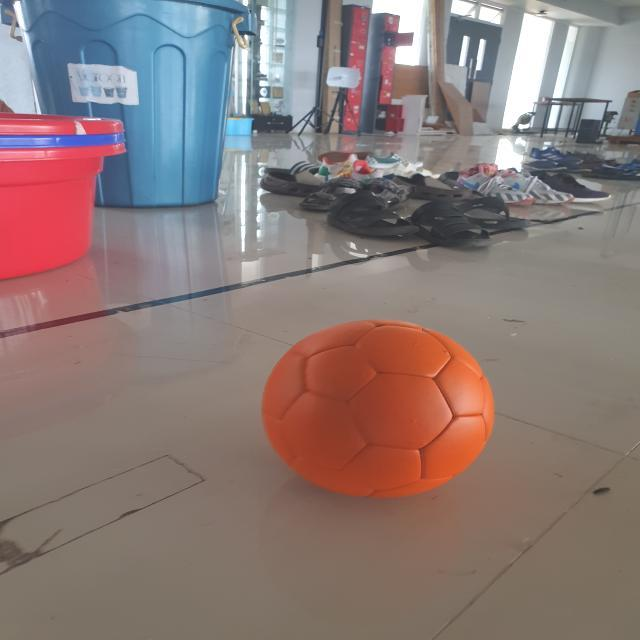bola: (223, 311, 522, 501)
